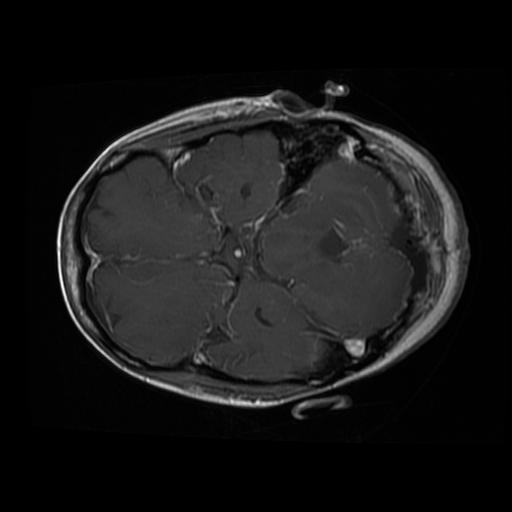glioma: (313, 225, 347, 262)
